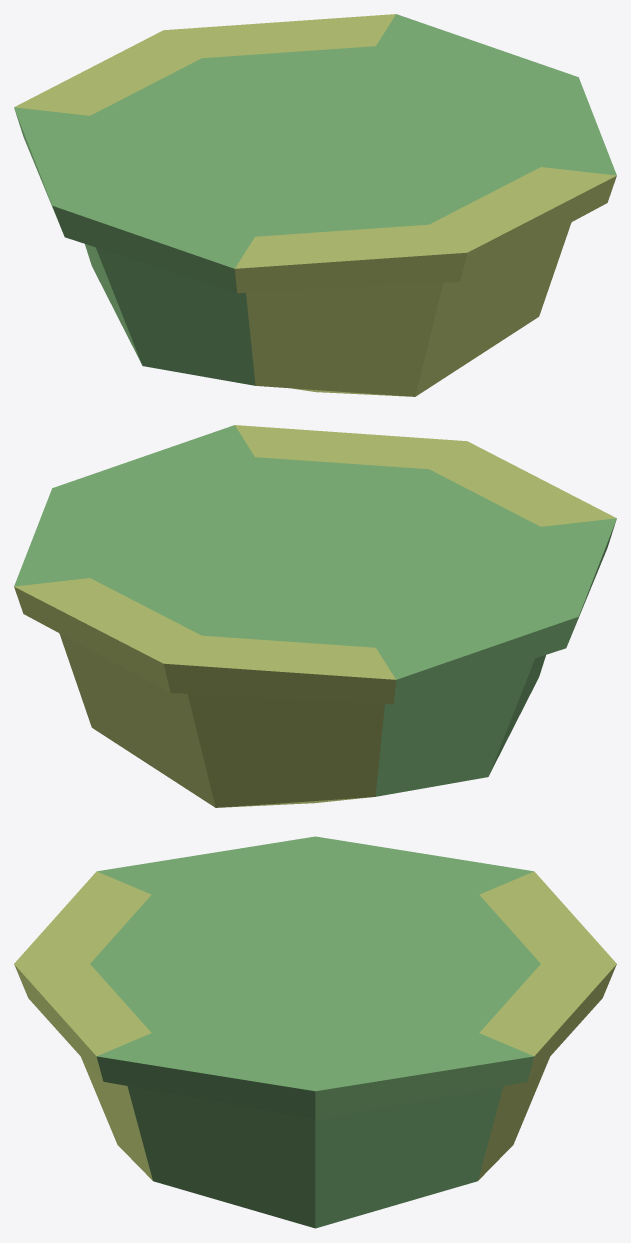
File: Ceilling Globe.fbx
The picture shows the model from 3 angles, top to bottom: view 1: azimuth 30°, elevation 25°; view 2: azimuth 150°, elevation 25°; view 3: azimuth 270°, elevation 25°; orthographic projection.
Parts seen in each view (by area): view 1: Ceilling Globe; view 2: Ceilling Globe; view 3: Ceilling Globe.
Boxes of the visible parts, left/top/right/bottom form: Ceilling Globe: left=14, top=14, right=616, bottom=396; Ceilling Globe: left=14, top=425, right=616, bottom=807; Ceilling Globe: left=14, top=836, right=616, bottom=1228.
Bounding box in the file's own units: 85.65 × 38.97 × 85.65.
